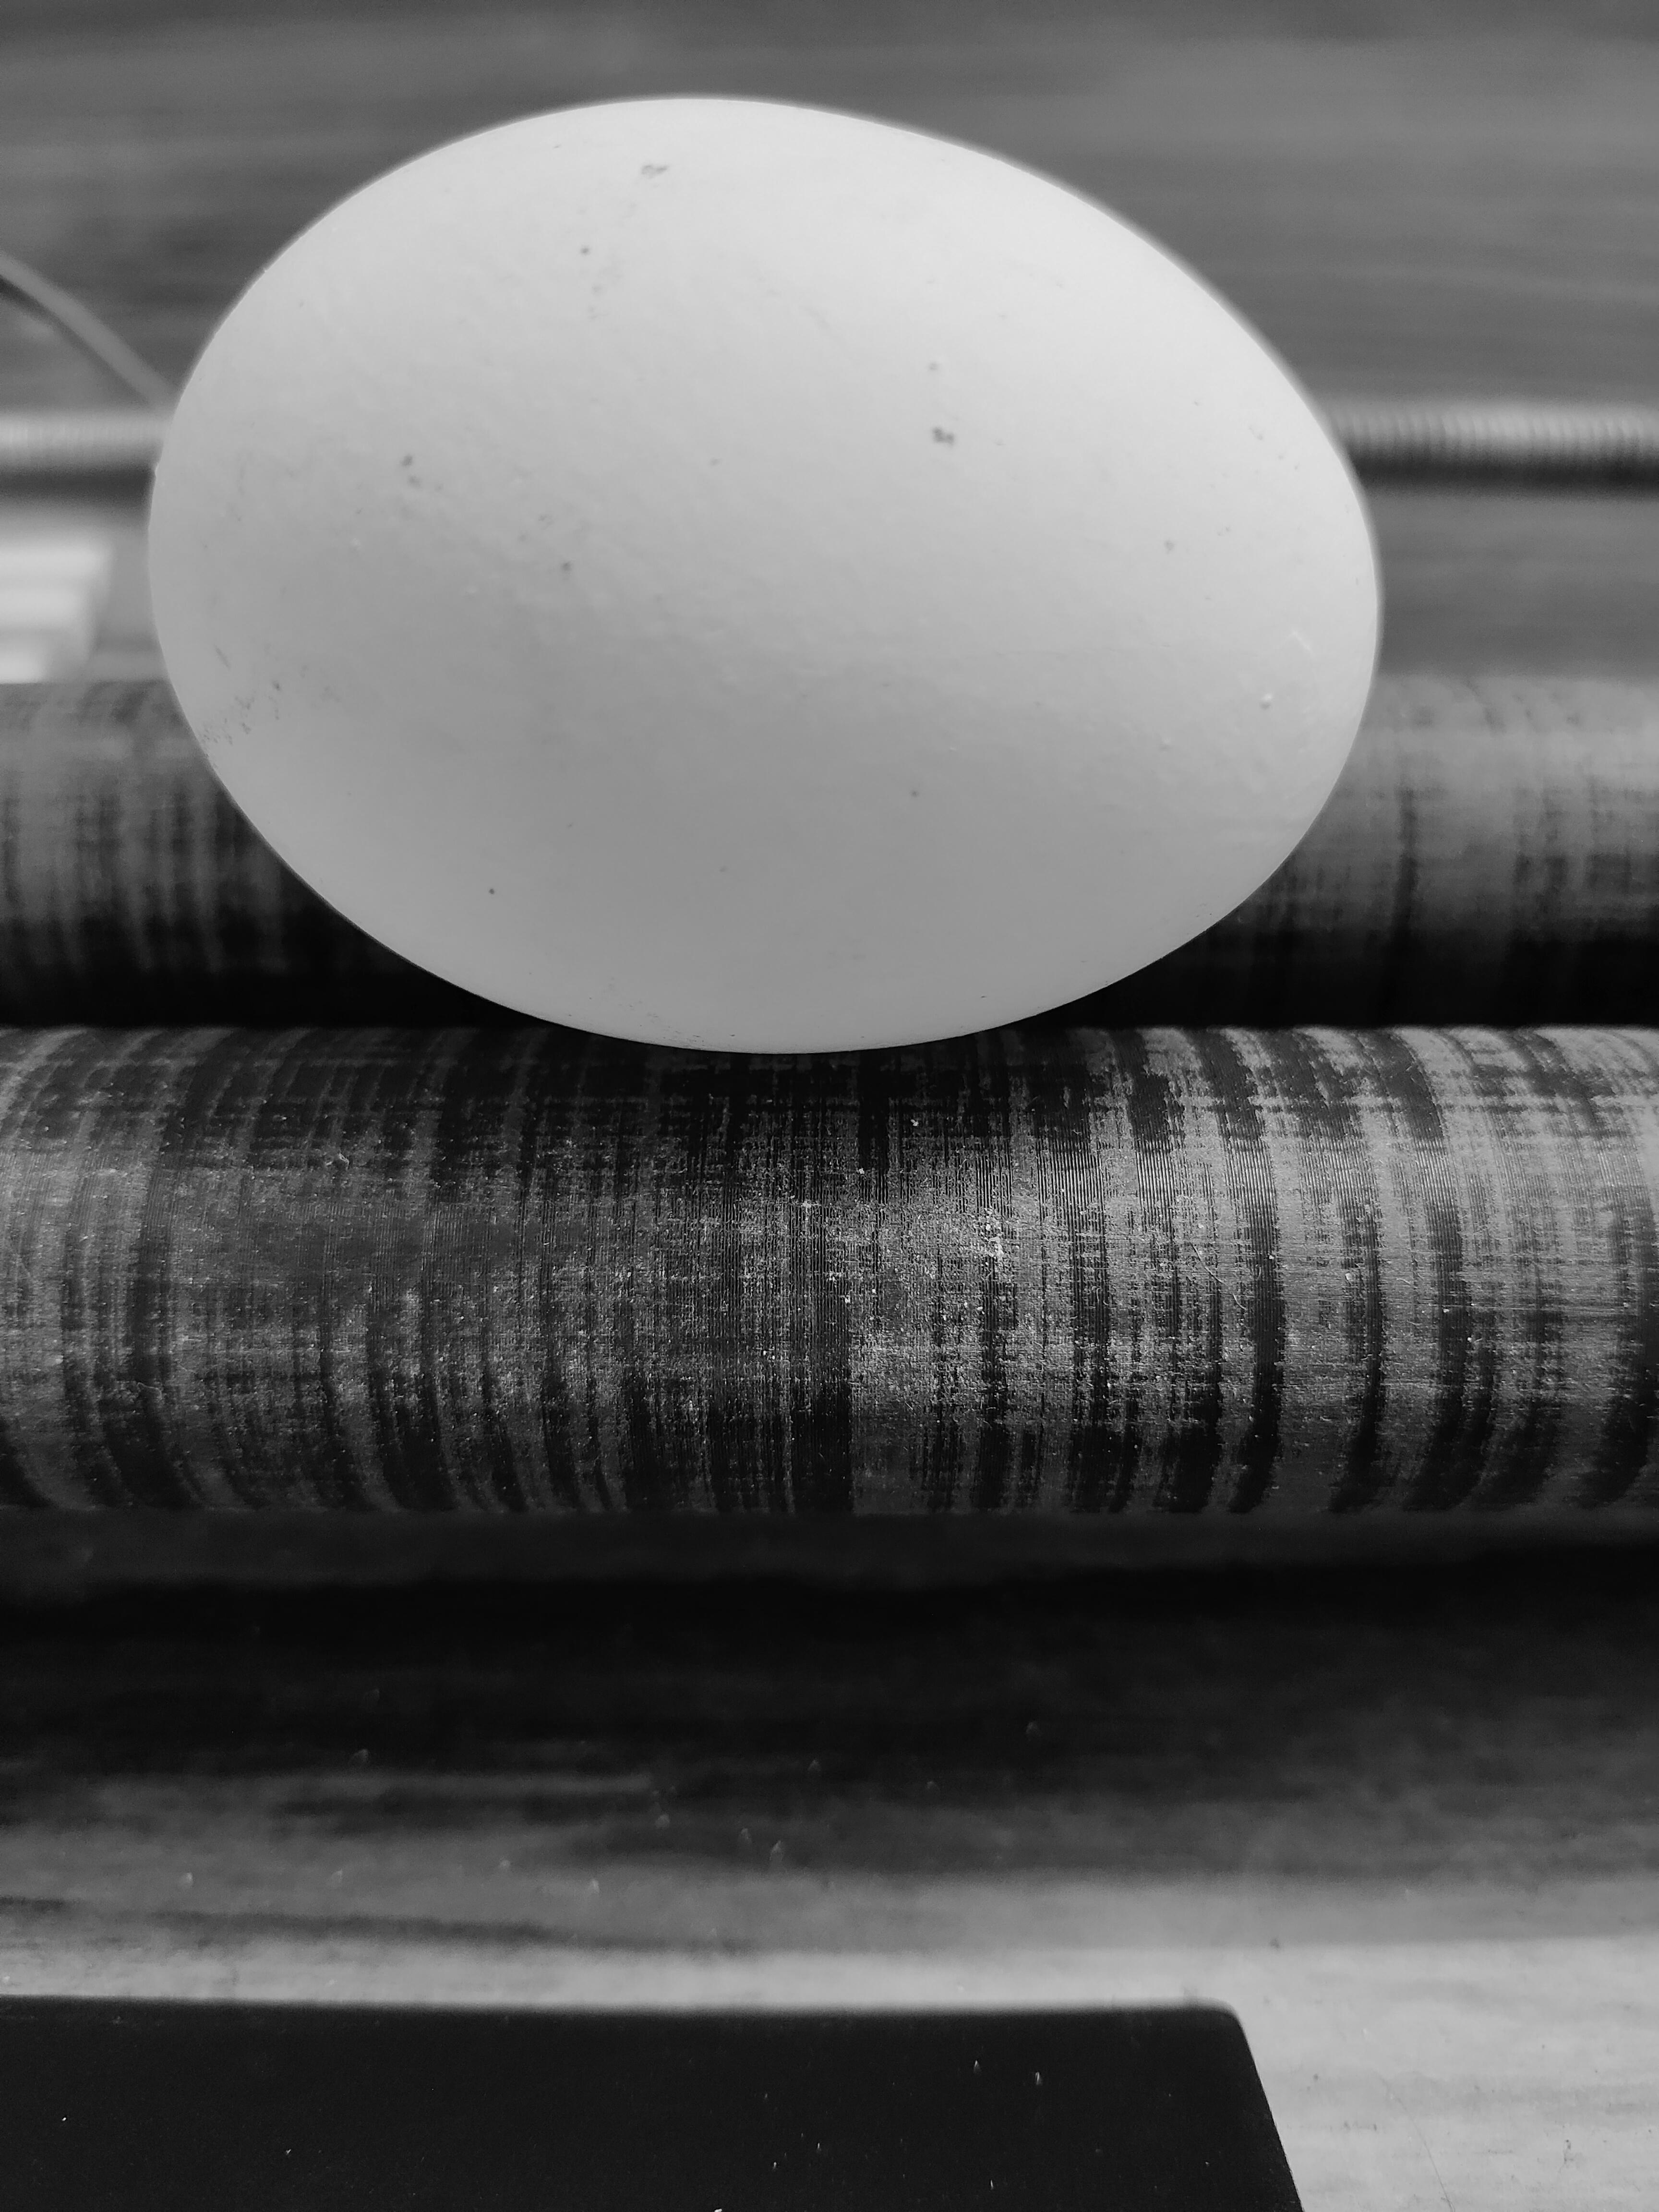telur: (115, 68, 1406, 1080)
